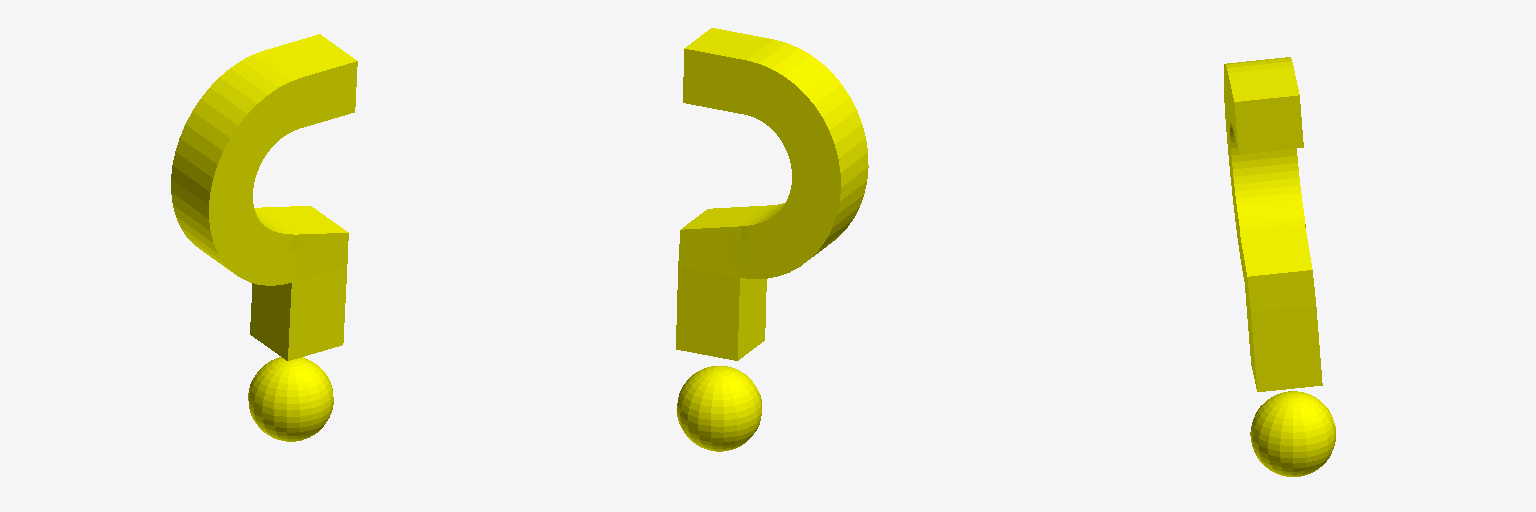
The model's file is letter0.obj.
3 renders of one model, left to right at view 1: azimuth 30°, elevation 25°; view 2: azimuth 150°, elevation 25°; view 3: azimuth 270°, elevation 25°, orthographic.
Visible parts, largest first — view 1: pPipe1, pSphere1; view 2: pPipe1, pSphere1; view 3: pPipe1, pSphere1.
Part boxes in pixels (bbox=[...]): pPipe1: bbox=[171, 34, 357, 360]; pSphere1: bbox=[248, 357, 333, 441]; pPipe1: bbox=[676, 28, 868, 360]; pSphere1: bbox=[677, 366, 761, 451]; pPipe1: bbox=[1224, 57, 1322, 391]; pSphere1: bbox=[1250, 391, 1335, 476].
Bounding box in the file's own units: 1.44 × 3.42 × 0.89.